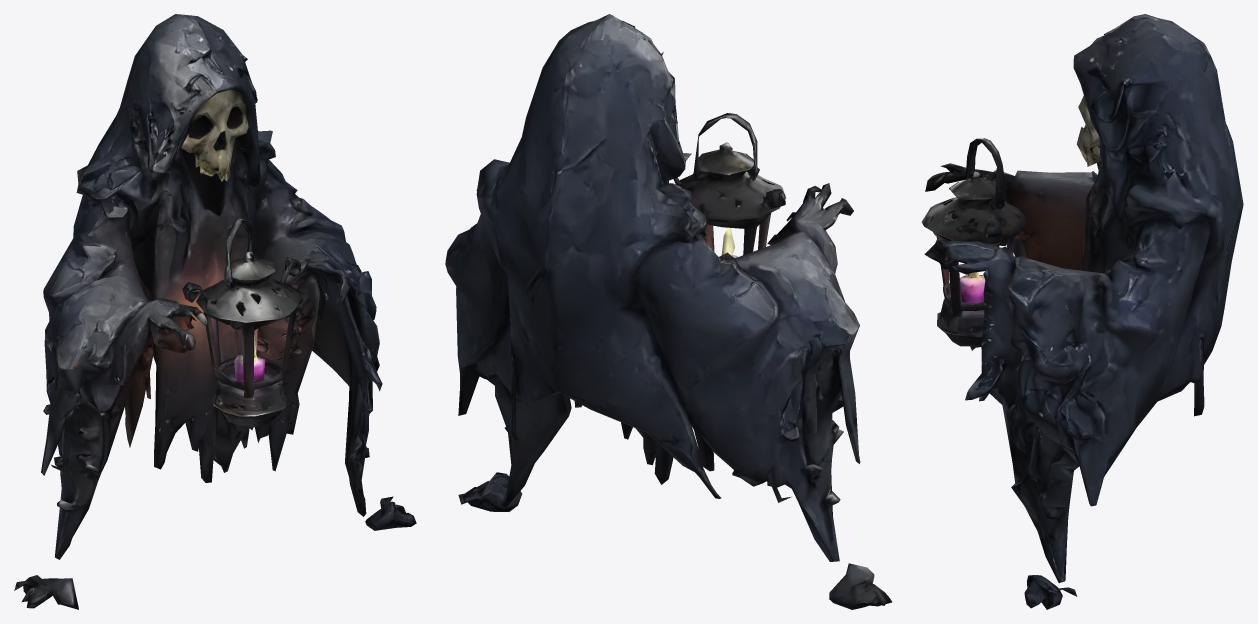
Rendered from foe_lantern_wraith.glb.
The picture shows the model from 3 angles, left to right: view 1: azimuth 30°, elevation 25°; view 2: azimuth 150°, elevation 25°; view 3: azimuth 270°, elevation 25°; orthographic projection. The views are drawn at different scales.
Visible parts, largest first — view 1: tripo_node_dd59e6d1-c6bb-4422-be5a-b185a9410a60; view 2: tripo_node_dd59e6d1-c6bb-4422-be5a-b185a9410a60; view 3: tripo_node_dd59e6d1-c6bb-4422-be5a-b185a9410a60.
Boxes of the visible parts, x1,y1,x2,y2 form: tripo_node_dd59e6d1-c6bb-4422-be5a-b185a9410a60: (14,14,416,609); tripo_node_dd59e6d1-c6bb-4422-be5a-b185a9410a60: (445,14,891,609); tripo_node_dd59e6d1-c6bb-4422-be5a-b185a9410a60: (921,14,1243,609).
Bounding box in the file's own units: 0.7681 × 0.9773 × 0.5575.
1 material, 1 textured.
